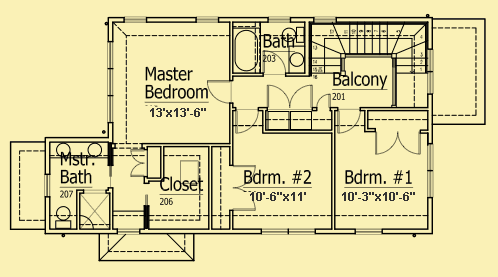door: (373, 126, 424, 159), (228, 158, 258, 213), (266, 83, 315, 112), (205, 78, 235, 106), (234, 107, 262, 136), (336, 106, 363, 136), (262, 49, 287, 78), (127, 147, 148, 179), (316, 91, 332, 113)
large sink: (52, 202, 77, 231)
small sink: (49, 140, 110, 159), (288, 45, 304, 74)
stairs: (308, 21, 427, 79)
tub: (231, 21, 263, 72)
windows: (104, 38, 116, 124), (425, 141, 436, 200), (257, 226, 327, 235), (424, 45, 435, 98), (190, 12, 224, 27), (42, 170, 55, 202), (122, 14, 151, 27), (114, 226, 143, 238), (268, 13, 293, 26), (311, 15, 339, 25), (352, 226, 387, 234)
